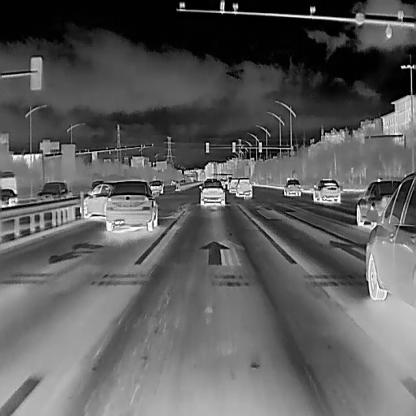car: (364, 169, 416, 310), (103, 176, 158, 232), (355, 176, 402, 228), (78, 181, 118, 217), (36, 180, 71, 208), (312, 177, 341, 206), (198, 177, 226, 206), (0, 187, 18, 211), (235, 176, 252, 198), (283, 177, 301, 197), (148, 178, 163, 194), (228, 177, 241, 193), (177, 176, 186, 186)
